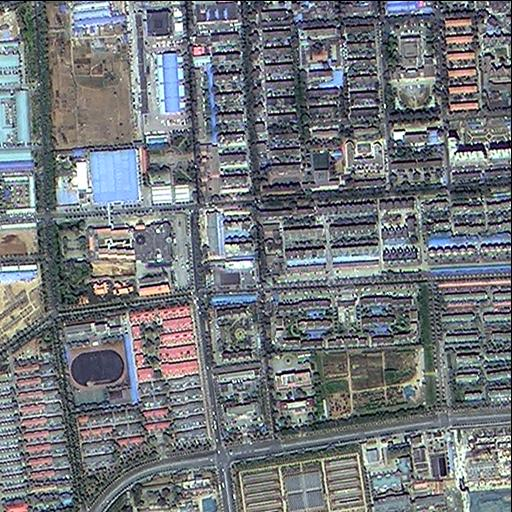school: (56, 310, 141, 409), (265, 147, 346, 189)
